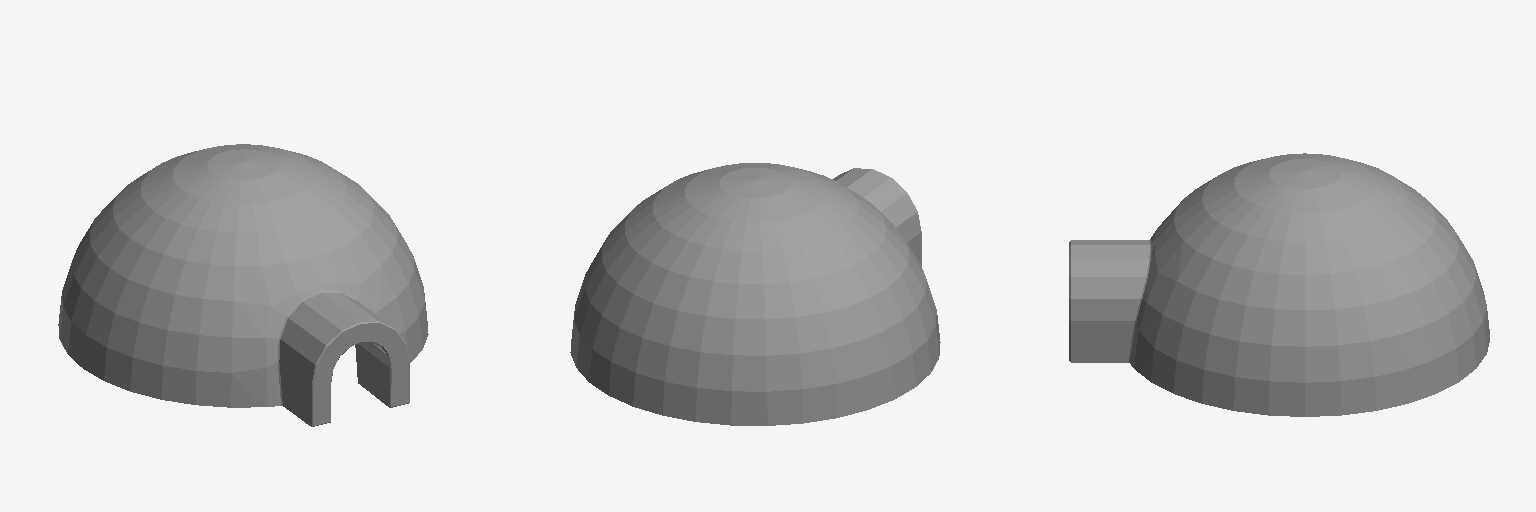
Rendered from igloo.obj.
The picture shows the model from 3 angles: view 1: azimuth 30°, elevation 25°; view 2: azimuth 150°, elevation 25°; view 3: azimuth 270°, elevation 25°; orthographic projection.
Parts seen in each view (by area): view 1: Igloo_igloo; view 2: Igloo_igloo; view 3: Igloo_igloo.
Boxes of the visible parts, box(x1,y1,x2,y2) form: Igloo_igloo: box(58, 144, 428, 426); Igloo_igloo: box(570, 163, 940, 425); Igloo_igloo: box(1069, 153, 1489, 416).
Bounding box in the file's own units: 4 × 2.03 × 4.54.